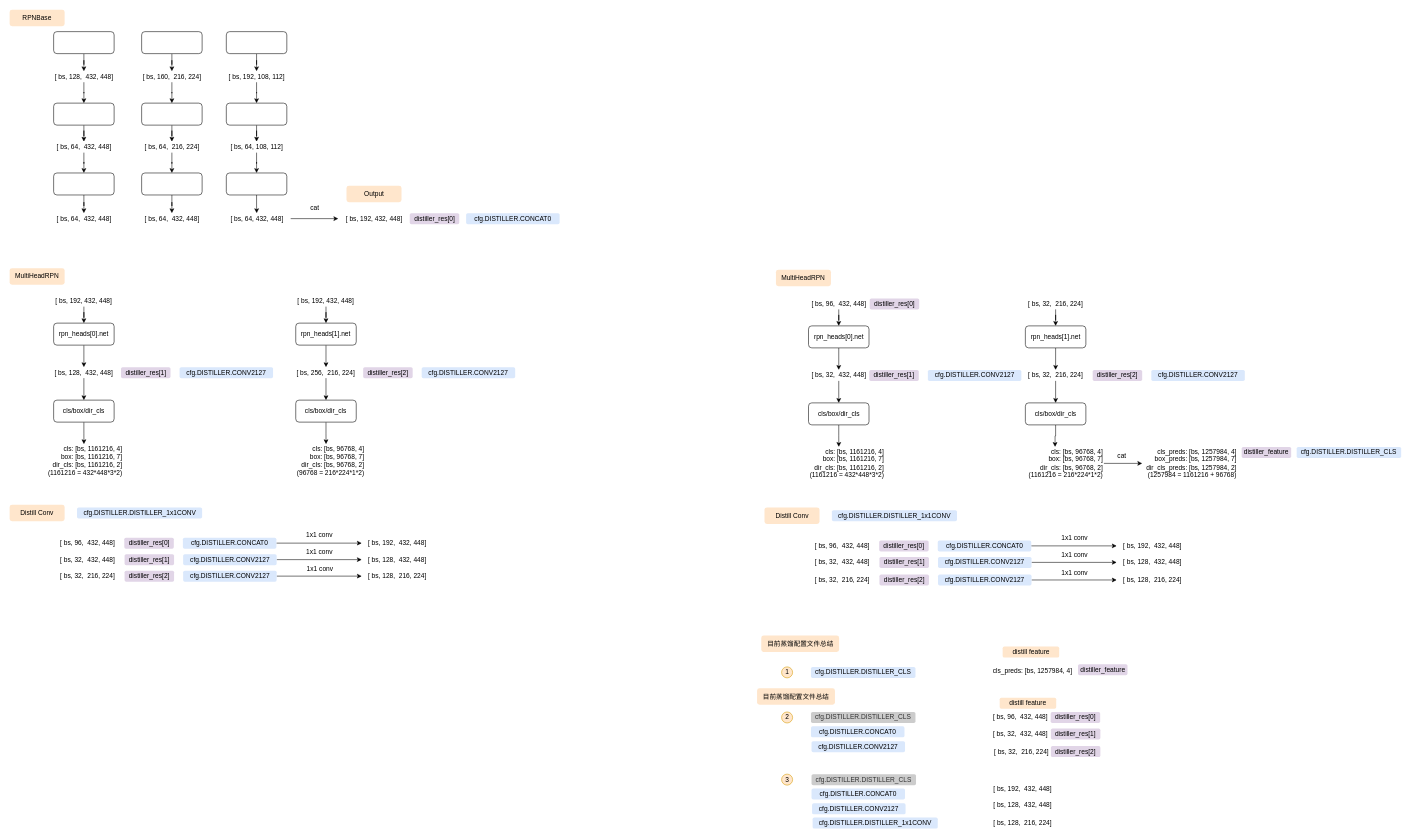
Image size: 1411x838. Some labels were removed from this diagram. The centre of each missing label's shape, as x and y in pixels:
block[0]: (x=83, y=42)
block[1]: (x=171, y=42)
block[2]: (x=256, y=42)
deblock[0]: (x=83, y=114)
deblock[1]: (x=171, y=114)
deblock[2]: (x=256, y=114)
upsample[0]: (x=83, y=183)
upsample[1]: (x=171, y=183)
upsample[2]: (x=256, y=183)
